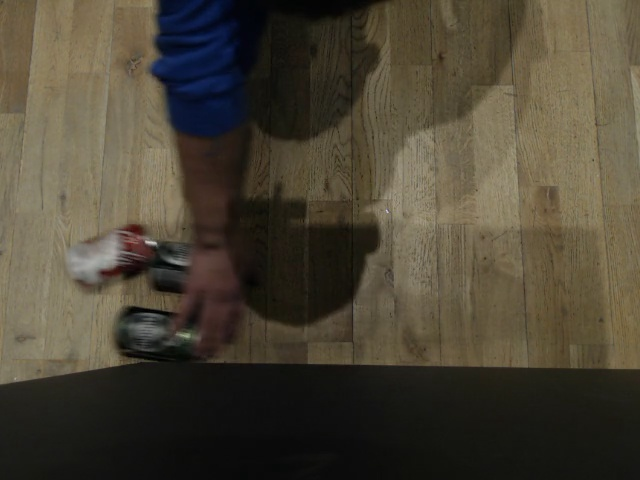cola: (56, 223, 154, 289)
